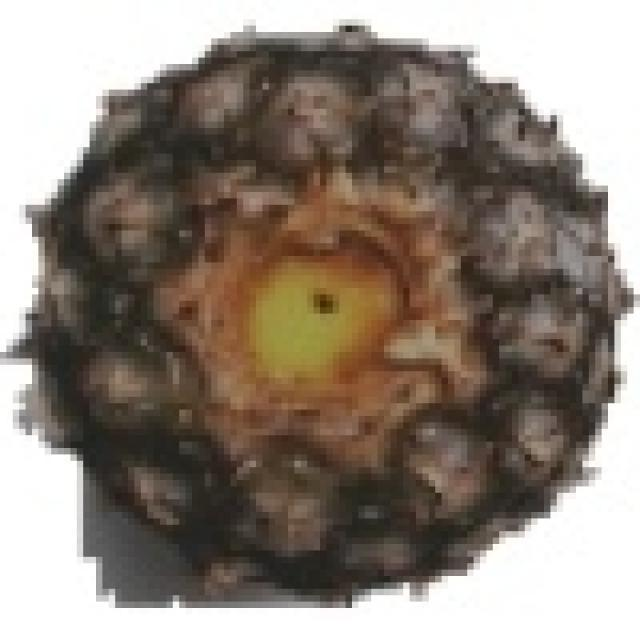pineapple: (45, 19, 634, 589)
